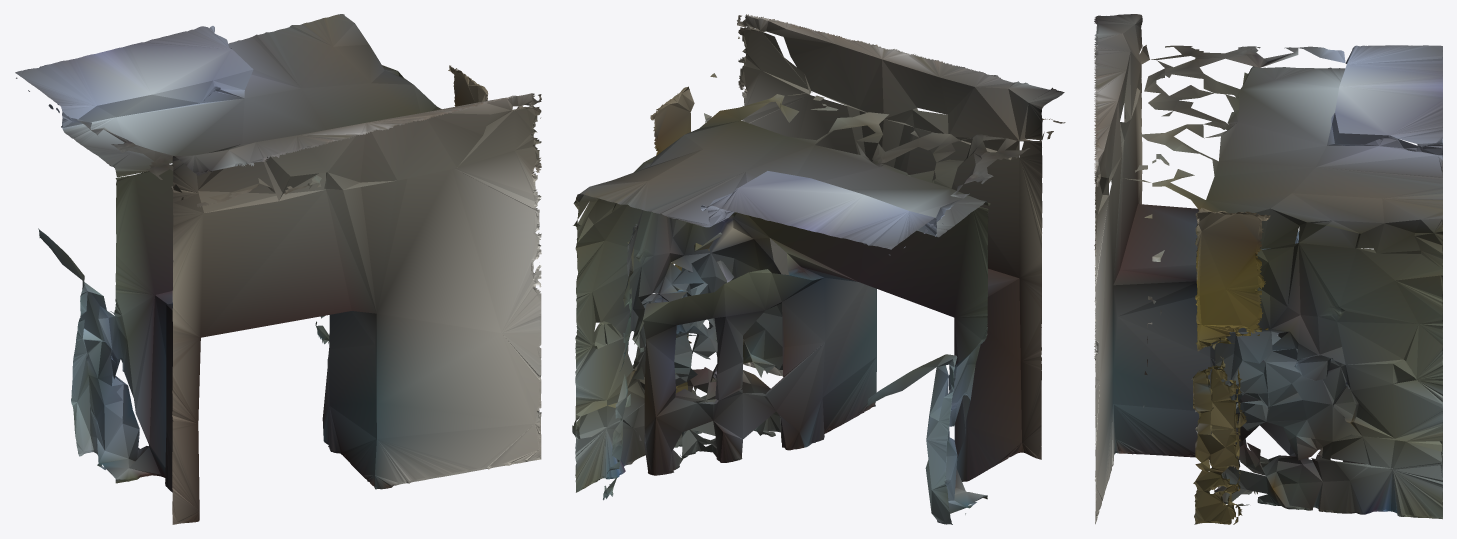
File: coarse.glb
3 views of the same model, side by side, from view 1: azimuth 30°, elevation 25°; view 2: azimuth 150°, elevation 25°; view 3: azimuth 270°, elevation 25° (orthographic). The views are drawn at different scales.
Bounding box in the file's own units: 1.56 × 1.61 × 1.44.
